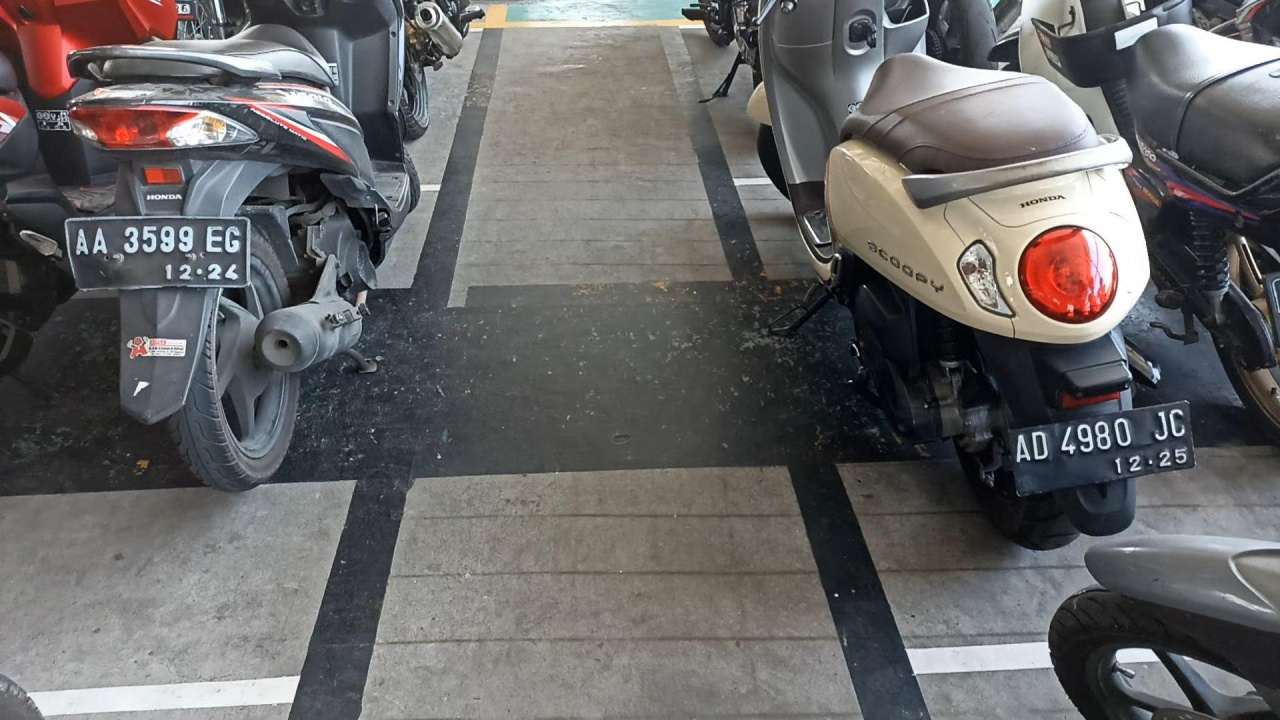plate: (1008, 400, 1197, 498), (66, 219, 250, 291)
